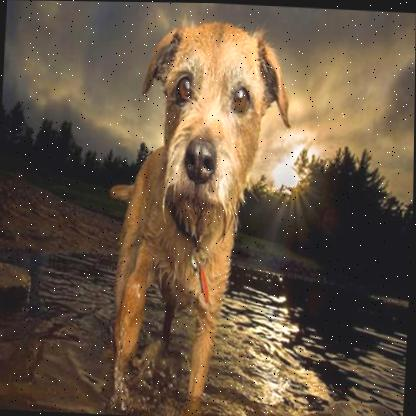dog: (72, 11, 306, 416)
